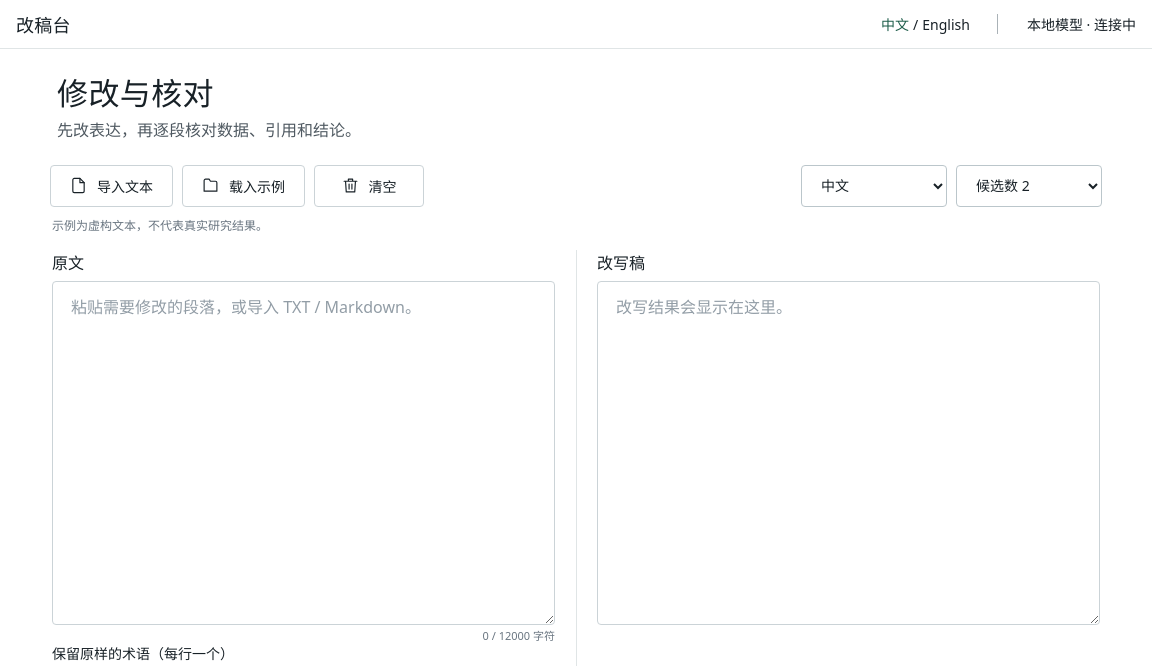
Test: workbench behavior › toggles UI language independently from document language
Type "保留内容" into the text box labelled "原文" at [304, 453], box left=52, top=281, right=555, bottom=625
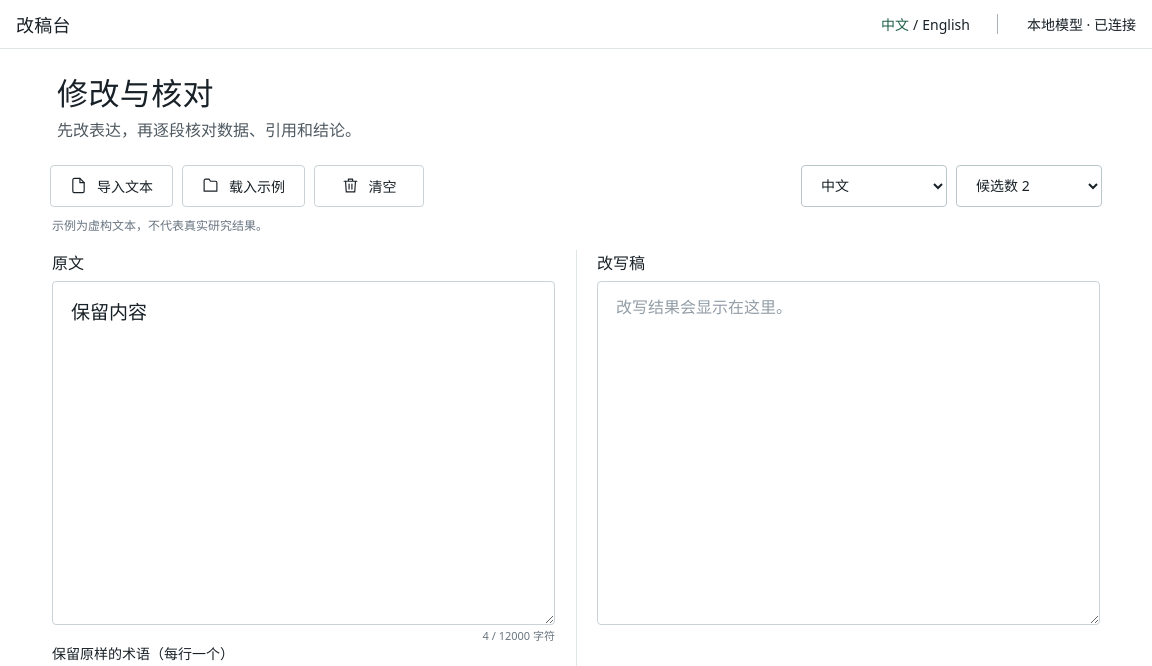
Click the button "English" at [946, 24], box left=922, top=10, right=970, bottom=38
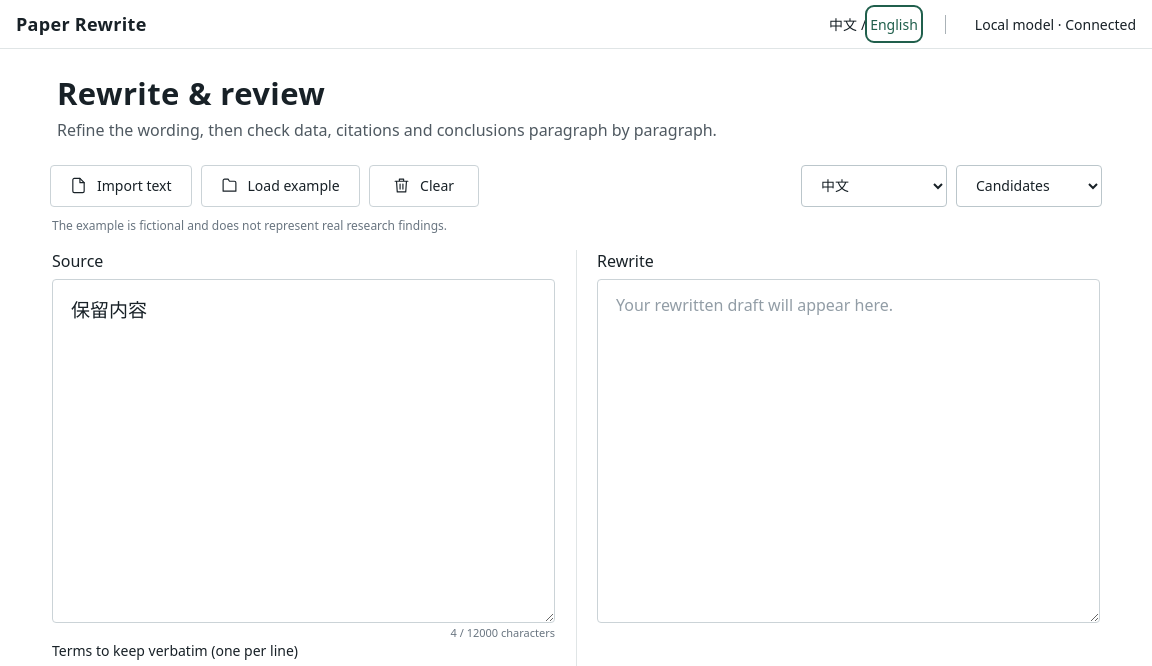
Expected: the dropdown named "Text language" shows "中文", left=801, top=165, right=947, bottom=207
Expected: the heading "Rewrite & review" is shown, left=57, top=72, right=325, bottom=114
